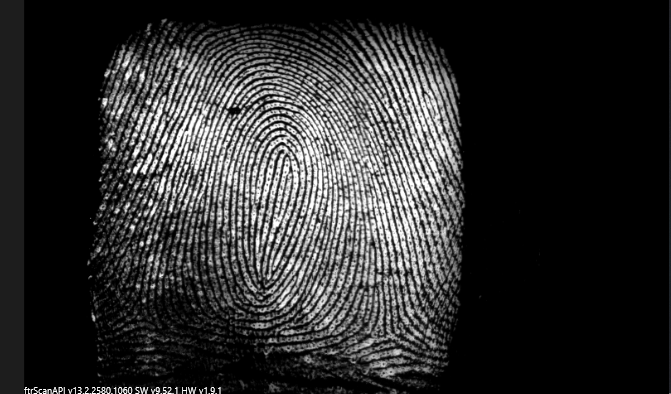nucelo: (261, 144, 301, 196)
verticilo: (372, 318, 405, 346), (129, 300, 151, 325)
